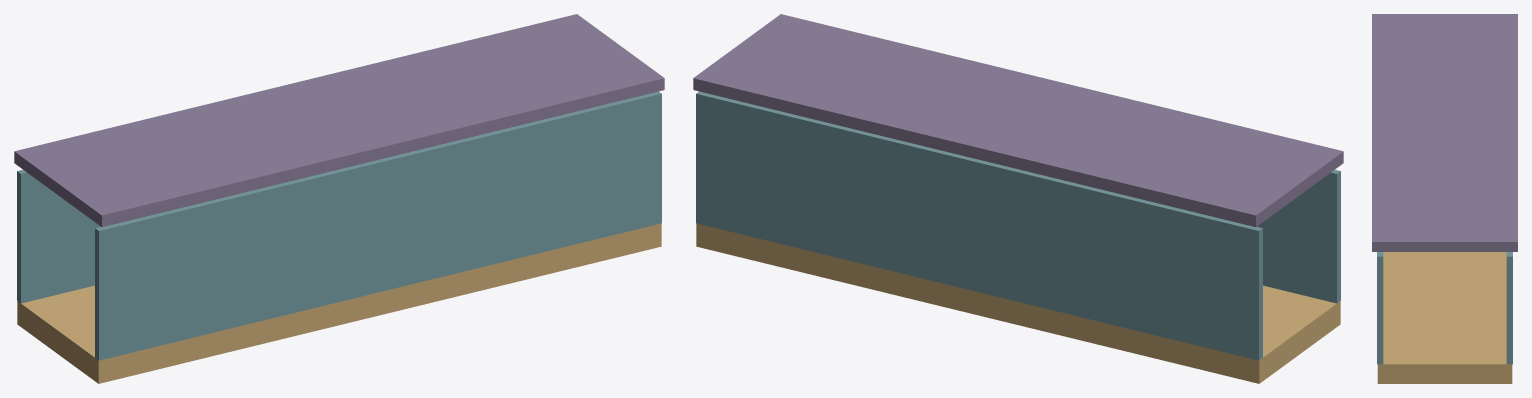
The picture shows the model from 3 angles, left to right: view 1: azimuth 30°, elevation 25°; view 2: azimuth 150°, elevation 25°; view 3: azimuth 270°, elevation 25°; orthographic projection. The views are drawn at different scales.
Visible parts, largest first — view 1: RC-028 Enclosed skybridge batched; view 2: RC-028 Enclosed skybridge batched; view 3: RC-028 Enclosed skybridge batched.
Part boxes in pixels (box(x1,y1,x2,y2)): RC-028 Enclosed skybridge batched: box(14, 14, 664, 383); RC-028 Enclosed skybridge batched: box(693, 14, 1343, 383); RC-028 Enclosed skybridge batched: box(1372, 14, 1517, 383).
Bounding box in the file's own units: 10 × 2.9 × 2.7.
